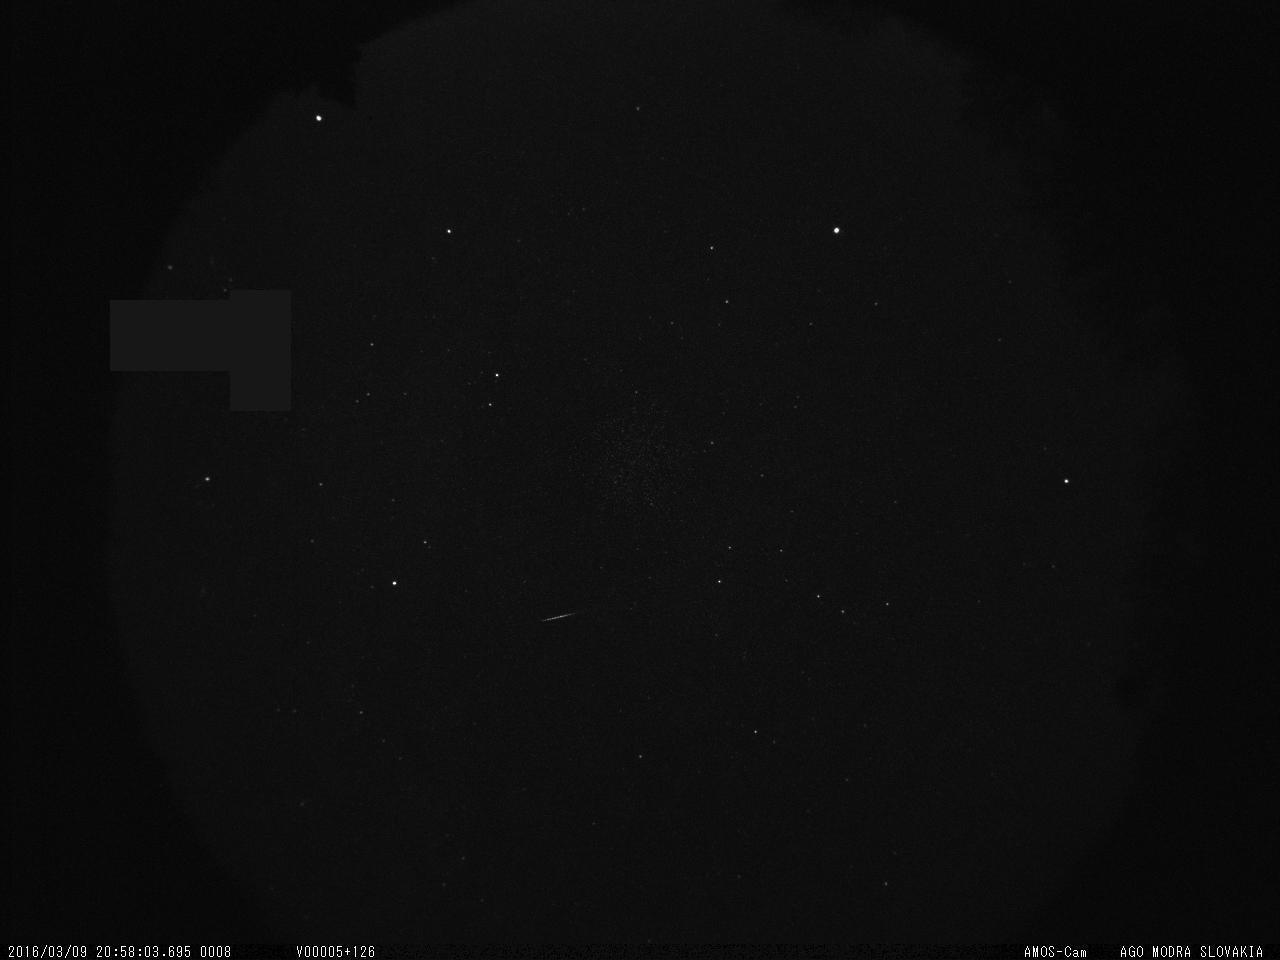meteor: (533, 605, 582, 628)
